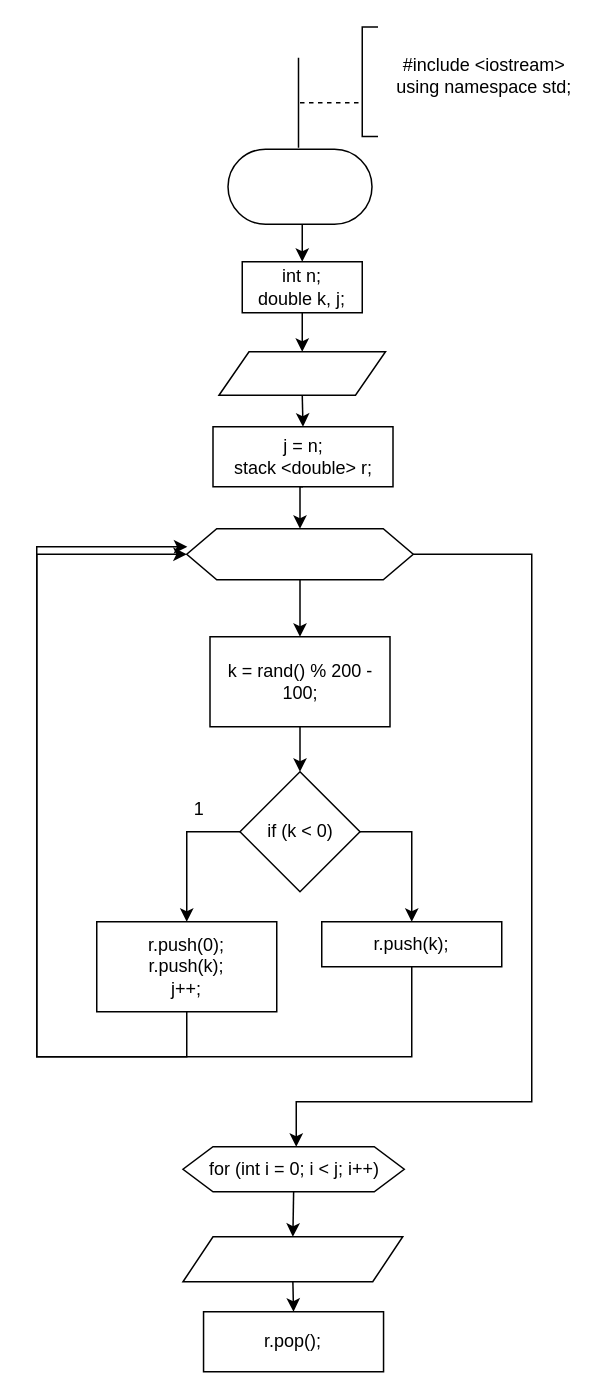
Some shapes in this 606 by 1398 pixel diagram are drawn without their labels. The centre of each missing label's shape, as x and y in pixels:
cin >> n;: point 302,372
cout << r.top() << " ";: point 292,1258
for ( int i = 0 ; i < n; i++): point 299,553
int main(): point 299,186
